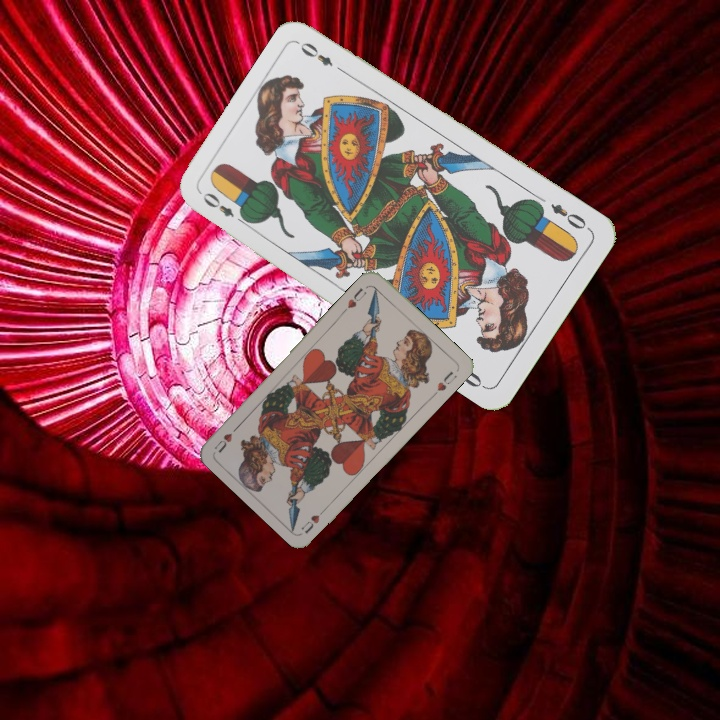EO: (198, 188, 250, 228), (546, 199, 593, 234)
HU: (297, 503, 330, 536), (343, 283, 369, 311)
